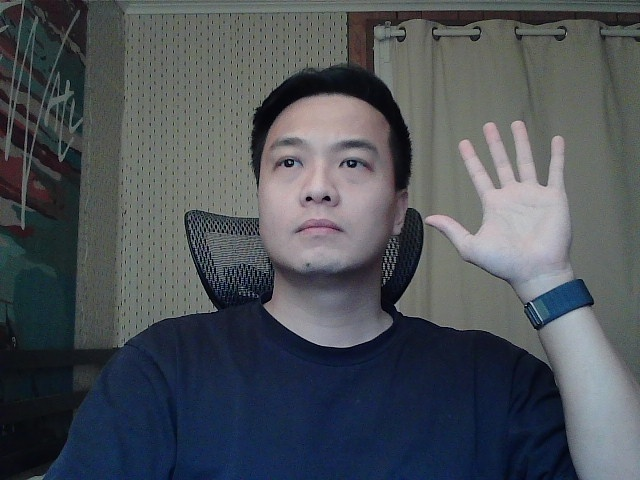Hello: (421, 113, 590, 294)
